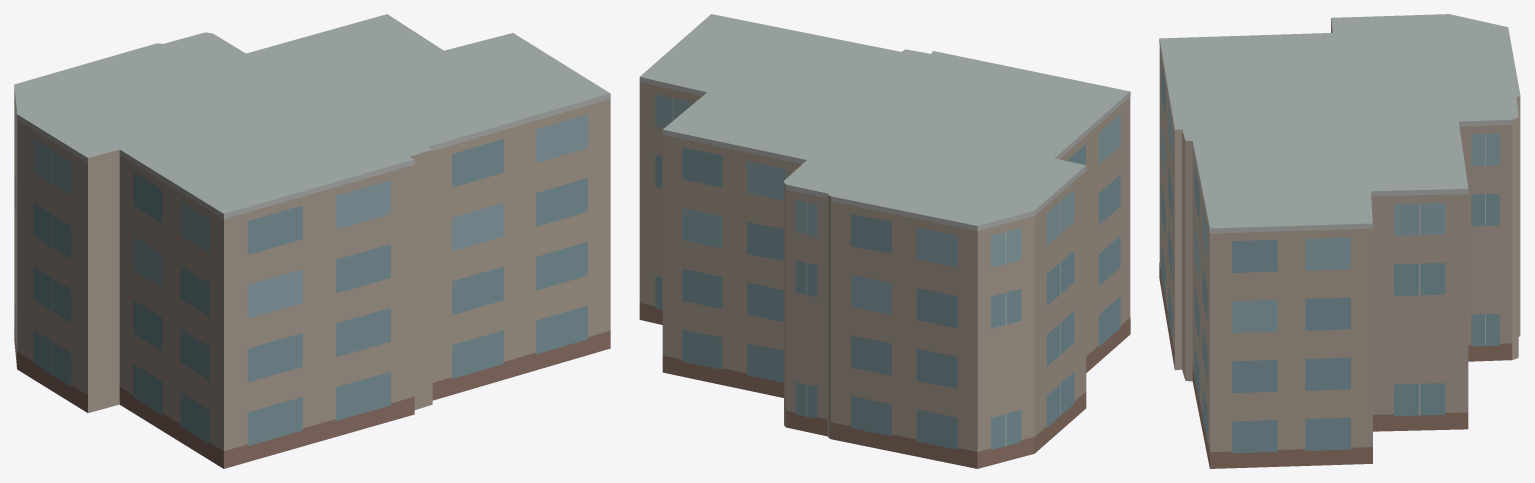
The model's file is survey-upis-33037593.glb.
The picture shows the model from 3 angles, left to right: view 1: azimuth 30°, elevation 25°; view 2: azimuth 150°, elevation 25°; view 3: azimuth 270°, elevation 25°; orthographic projection. The views are drawn at different scales.
Visible parts, largest first — view 1: survey-upis-33037593.tmp; view 2: survey-upis-33037593.tmp; view 3: survey-upis-33037593.tmp.
Boxes of the visible parts, x1,y1,x2,y2 form: survey-upis-33037593.tmp: (14,14,610,468); survey-upis-33037593.tmp: (639,14,1130,468); survey-upis-33037593.tmp: (1159,14,1520,468).
Bounding box in the file's own units: 22.02 × 11.5 × 15.66.
